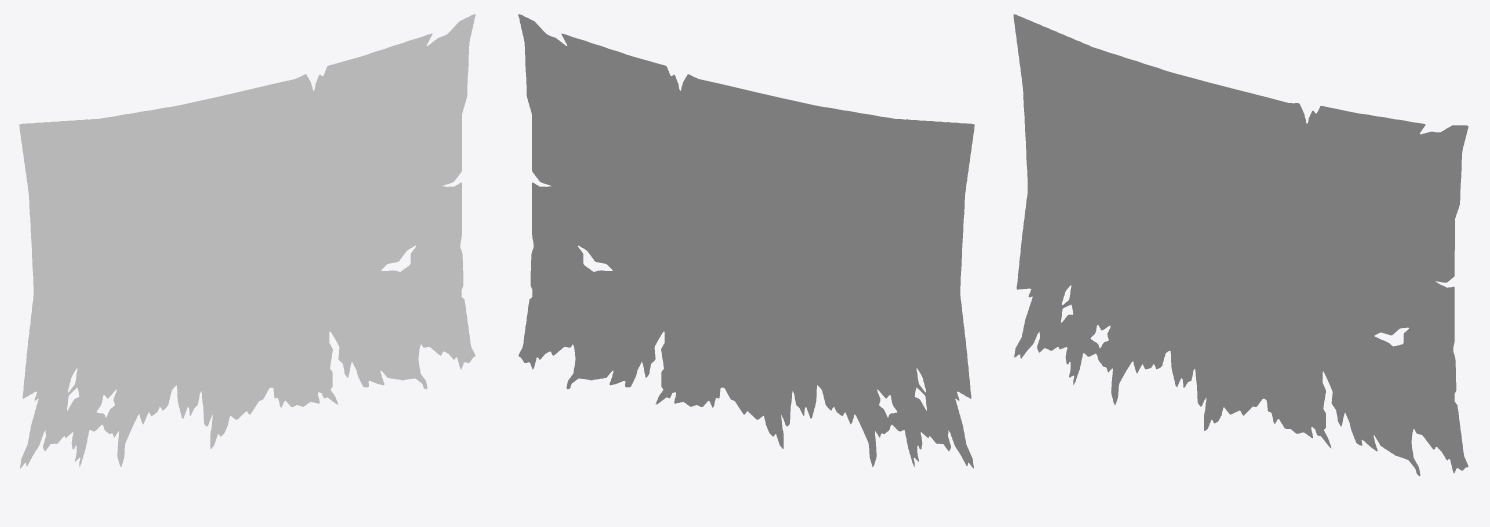
The model's file is SM_Prop_Flag_01.fbx.
The picture shows the model from 3 angles, left to right: view 1: azimuth 30°, elevation 25°; view 2: azimuth 150°, elevation 25°; view 3: azimuth 330°, elevation 25°; orthographic projection.
Parts seen in each view (by area): view 1: SM_Prop_Flag_01; view 2: SM_Prop_Flag_01; view 3: SM_Prop_Flag_01.
Boxes of the visible parts, left/top/right/bottom form: SM_Prop_Flag_01: left=19, top=14, right=475, bottom=468; SM_Prop_Flag_01: left=518, top=14, right=974, bottom=468; SM_Prop_Flag_01: left=1013, top=14, right=1468, bottom=476.
Bounding box in the file's own units: 378 × 299 × 0.
